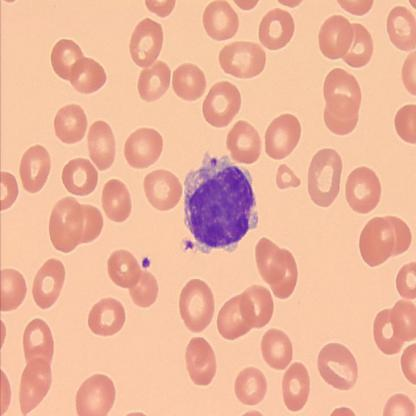Atypical lymphocyte: (183, 152, 259, 255)
